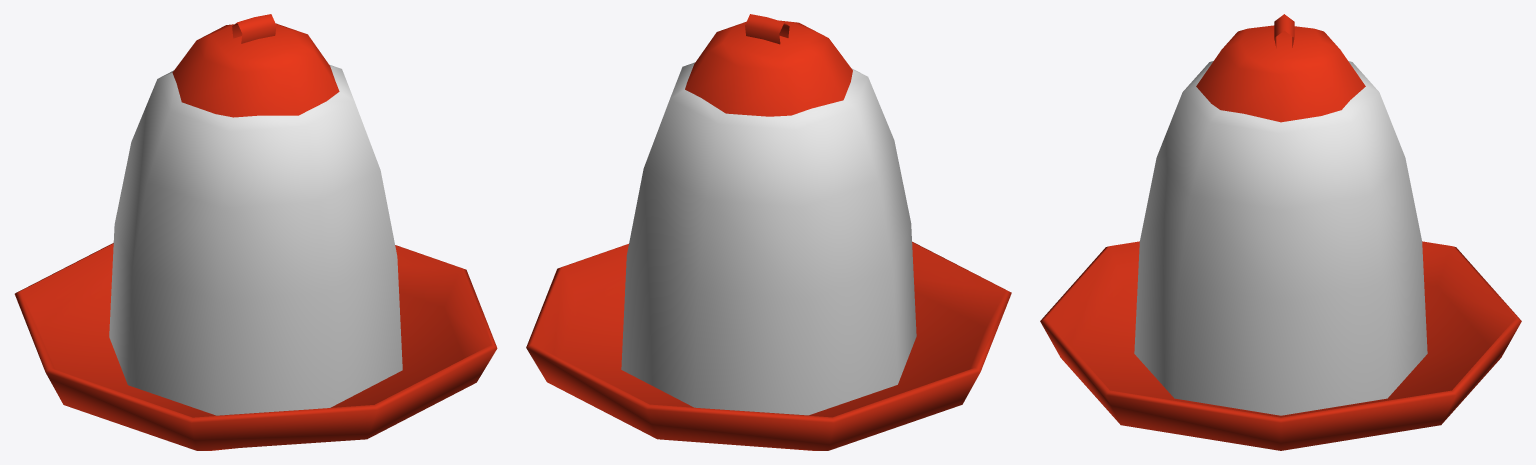
File: KandangAyam_Minum.fbx
3 renders of one model, left to right at view 1: azimuth 30°, elevation 25°; view 2: azimuth 150°, elevation 25°; view 3: azimuth 270°, elevation 25°, orthographic.
Visible parts, largest first — view 1: KandangAyam-Minum_LOD0; view 2: KandangAyam-Minum_LOD0; view 3: KandangAyam-Minum_LOD0.
Boxes of the visible parts, x1,y1,x2,y2 form: KandangAyam-Minum_LOD0: (14, 14, 497, 450); KandangAyam-Minum_LOD0: (526, 14, 1011, 450); KandangAyam-Minum_LOD0: (1040, 14, 1521, 450).
Size of what is drawn, in the model's own units: 42.14 by 35.8 by 42.14.
